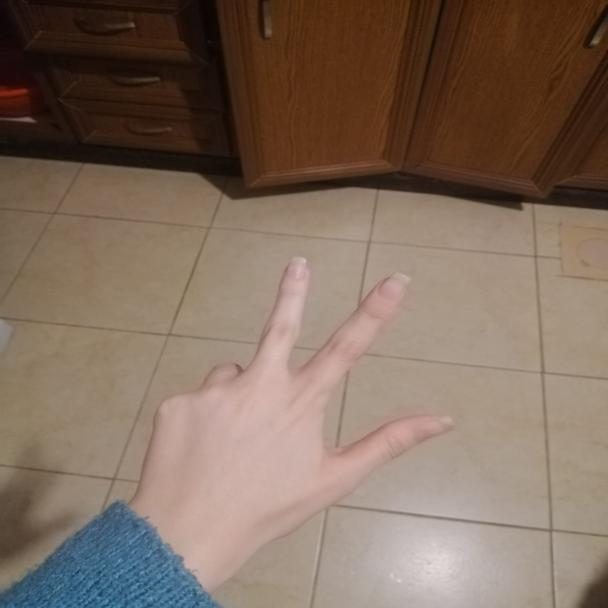three: (152, 253, 473, 522)
